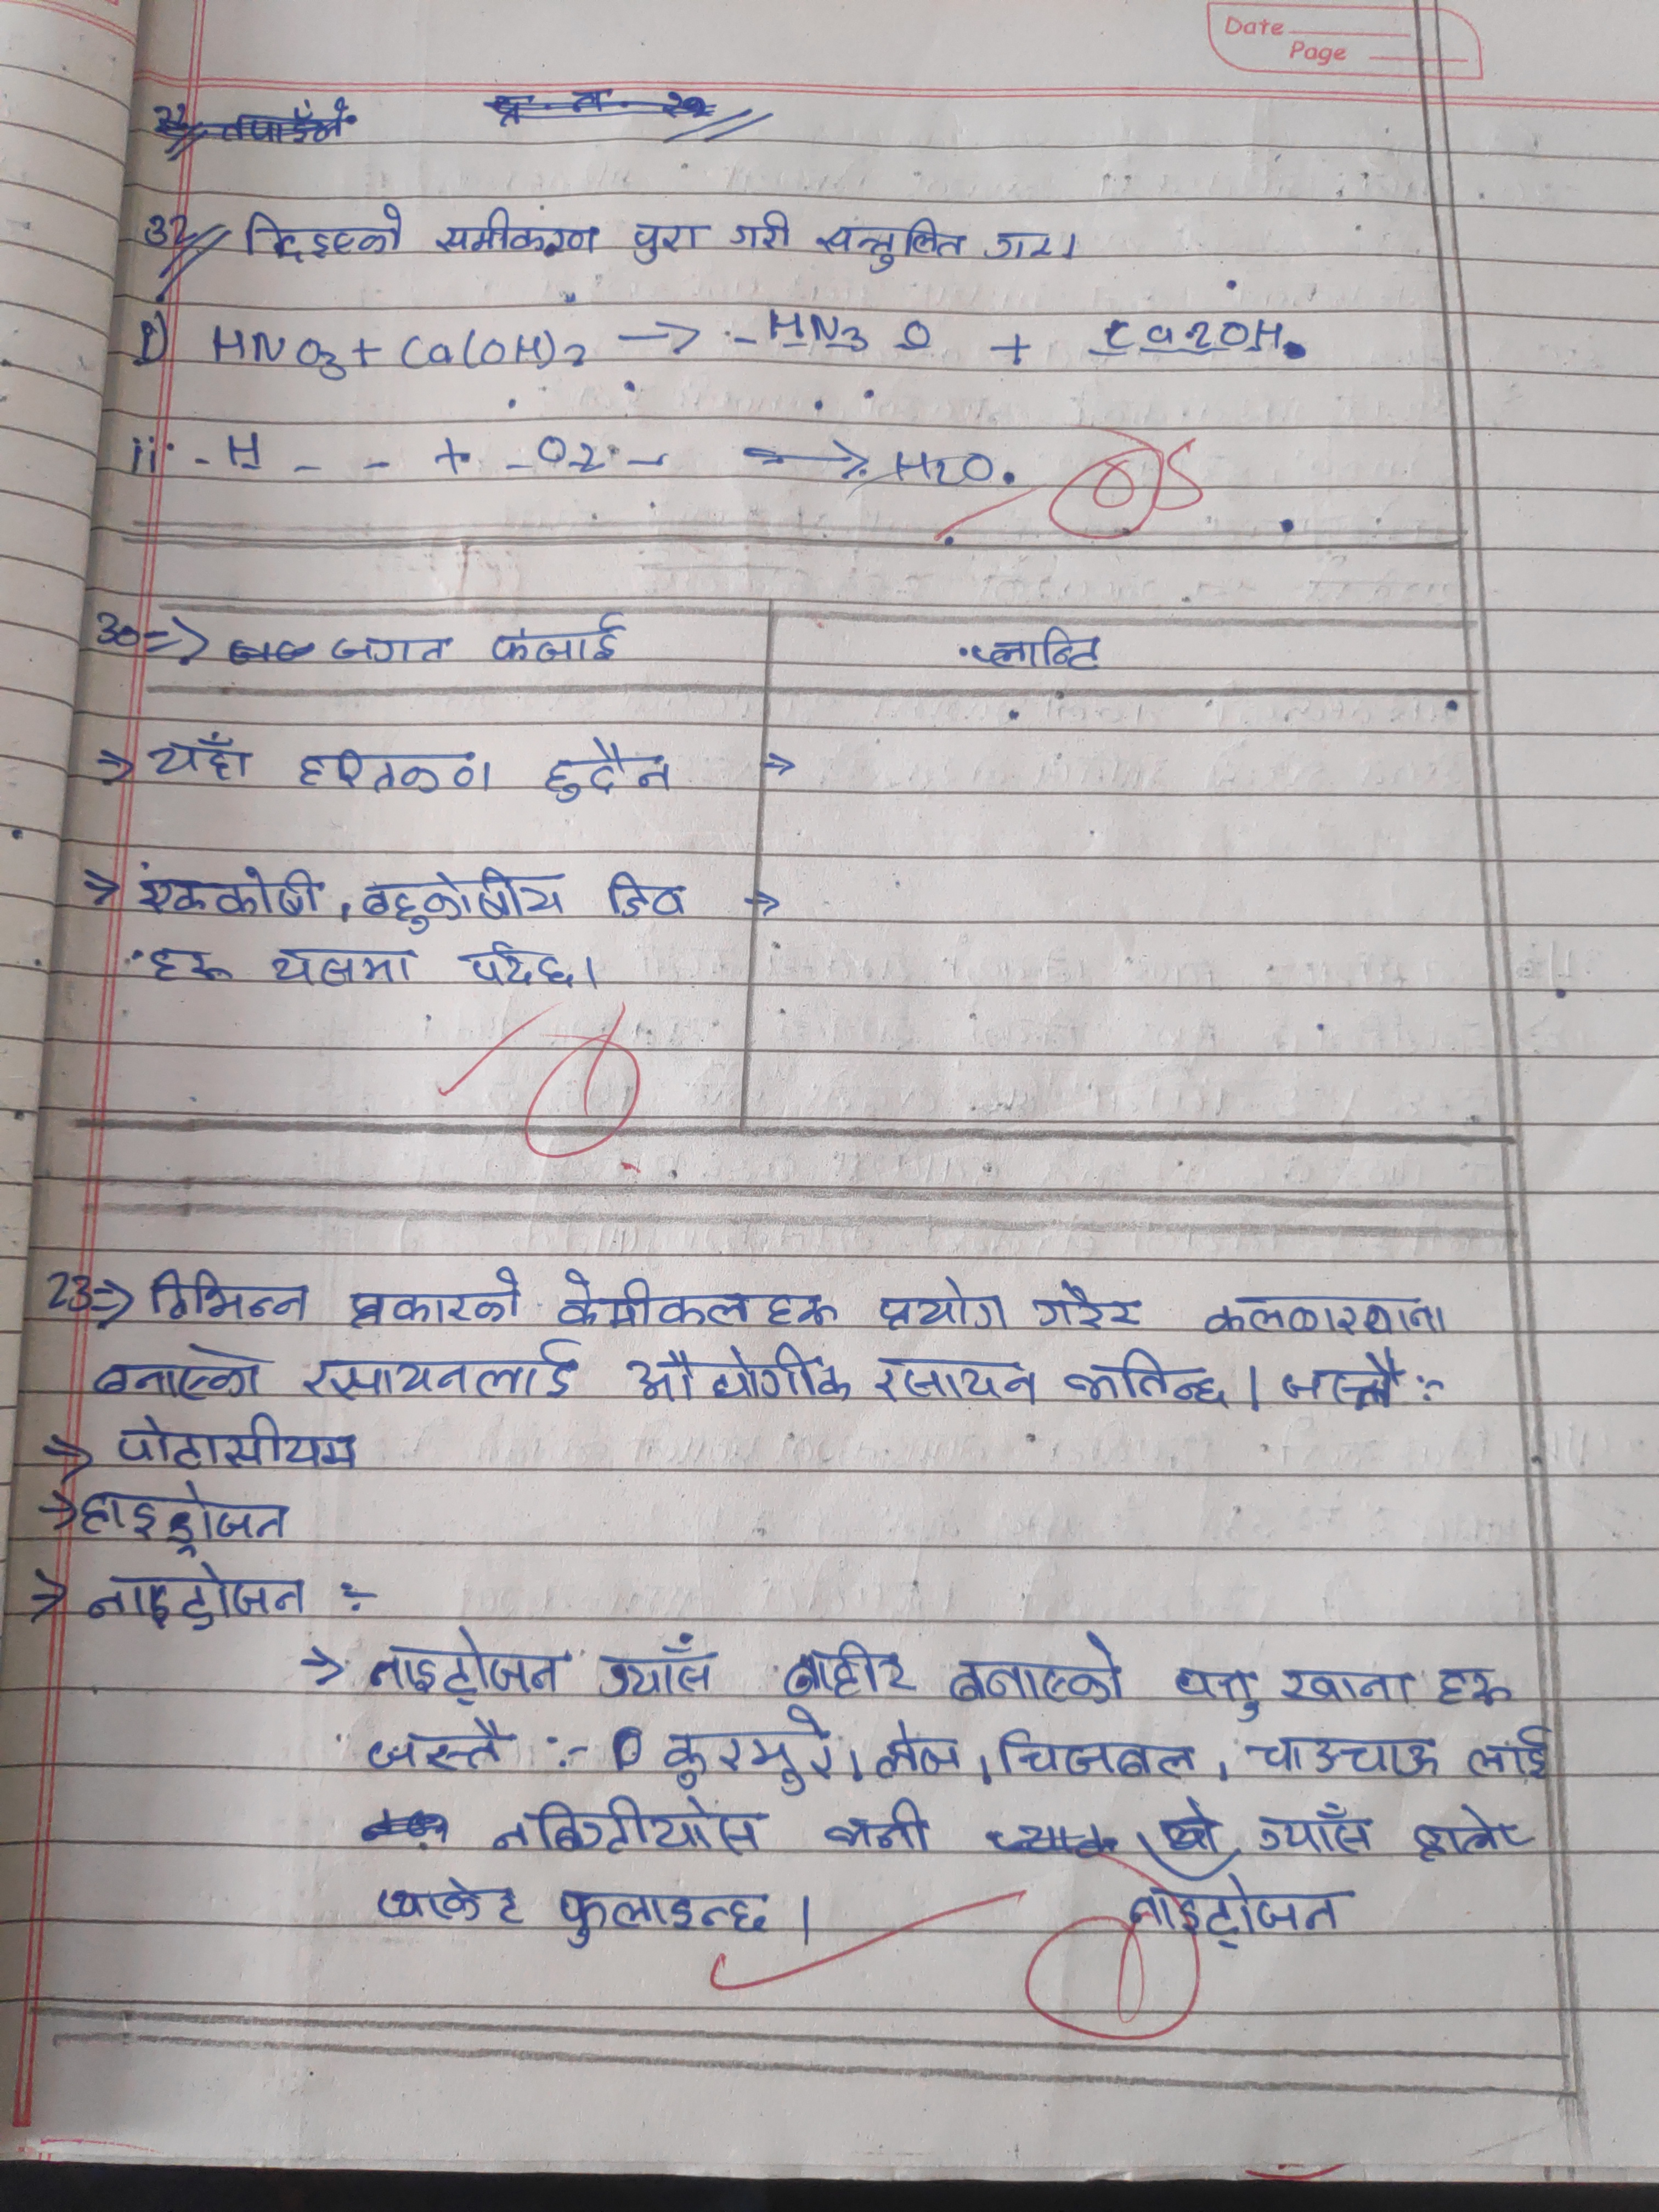text: (547, 1259, 843, 1336), (1112, 1867, 1349, 1949), (82, 1552, 312, 1635), (293, 1339, 591, 1404), (66, 1472, 301, 1550), (488, 1796, 769, 1860), (551, 1876, 784, 1951), (105, 1414, 364, 1480), (356, 857, 572, 935), (624, 1343, 856, 1411), (369, 1622, 565, 1702), (660, 1710, 847, 1794), (1199, 1285, 1459, 1345), (943, 1635, 1127, 1717), (293, 732, 493, 803), (138, 852, 331, 923), (340, 1259, 526, 1331), (992, 1723, 1201, 1785), (134, 1264, 322, 1332), (1063, 1346, 1237, 1416), (870, 1339, 1042, 1409), (1248, 1724, 1445, 1785), (94, 1339, 274, 1406), (225, 200, 413, 261), (369, 1869, 530, 1939), (1405, 1797, 1539, 1872), (817, 212, 976, 273), (357, 1714, 516, 1775), (782, 1635, 924, 1703), (537, 732, 674, 799), (483, 610, 634, 671), (1279, 1348, 1412, 1418), (592, 1634, 723, 1703), (429, 209, 610, 258), (1026, 1271, 1161, 1336), (1244, 1797, 1375, 1862), (1276, 1656, 1417, 1716), (875, 1280, 1014, 1339), (962, 624, 1112, 676), (267, 944, 415, 995), (823, 1796, 939, 1858), (143, 730, 267, 787), (1171, 1658, 1270, 1730), (868, 1714, 967, 1784), (453, 939, 577, 993), (319, 624, 457, 671), (592, 867, 687, 930), (1424, 1660, 1518, 1717), (626, 204, 713, 265), (136, 939, 240, 989), (1464, 1721, 1551, 1778), (723, 200, 796, 249), (978, 221, 1063, 261)
